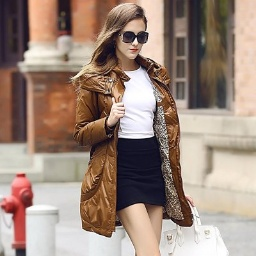face: (85, 2, 149, 64)
